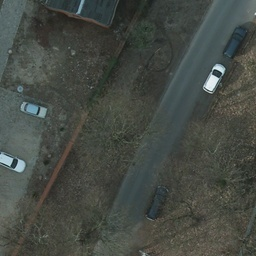car: (222, 22, 247, 57), (202, 63, 226, 93), (146, 187, 167, 221), (1, 149, 27, 173), (21, 100, 47, 119)
